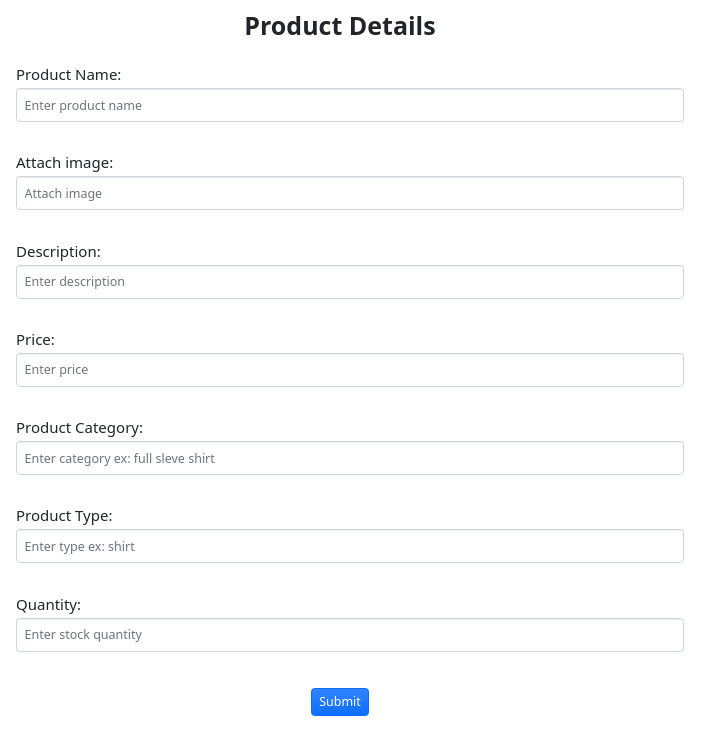
Test: Add Product › price verification
Type "-1" into the number field with test id "price" at (350, 370), box [16,353,684,387]
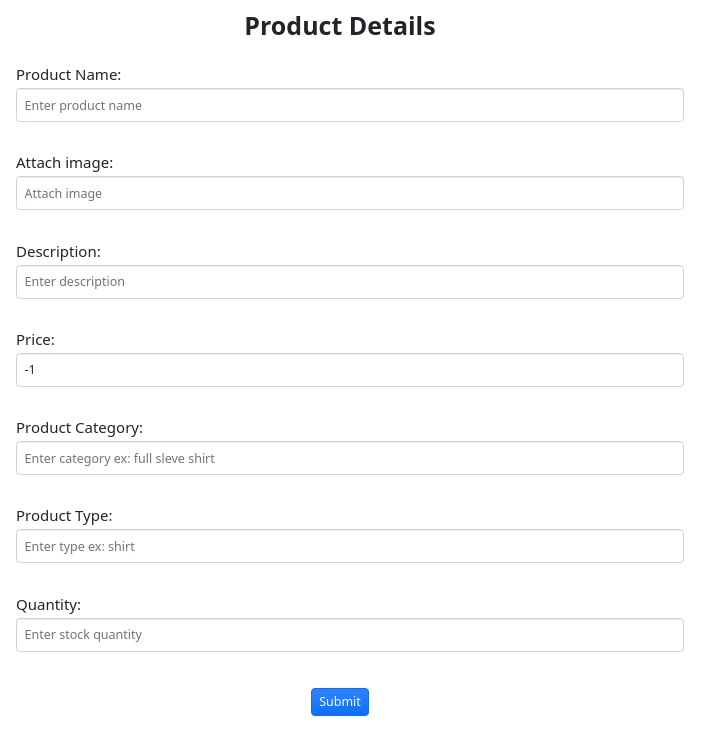
Leave the number field with test id "price", box [16,353,684,387]
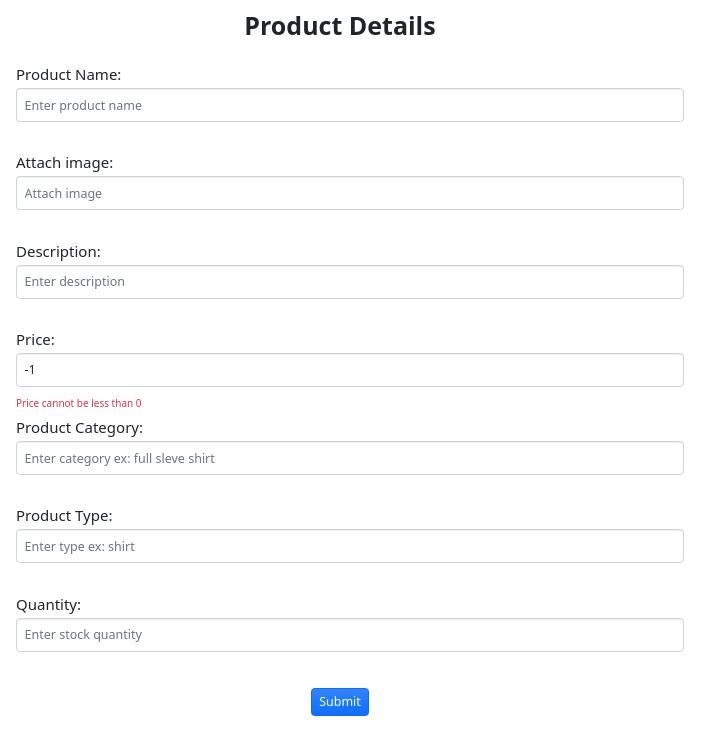
Now the text "Price cannot be less than 0" is shown, box [16,396,142,410]
